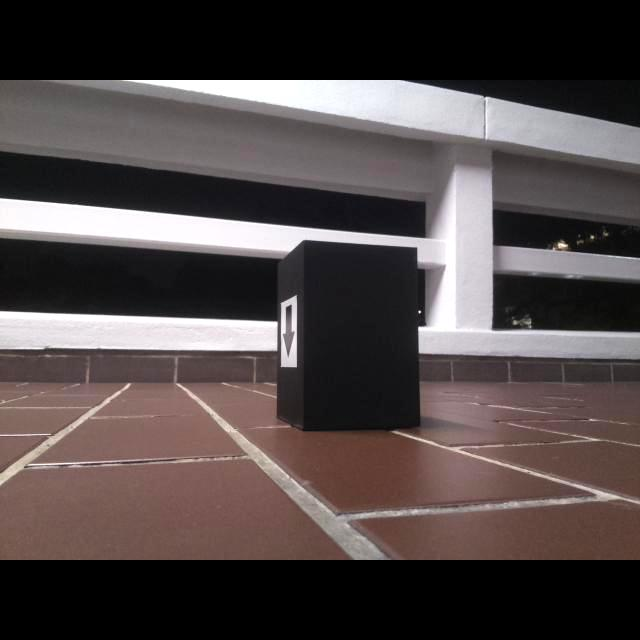DOWN: (282, 303, 295, 359)
